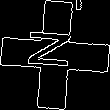N_E: (28, 33, 82, 77)
